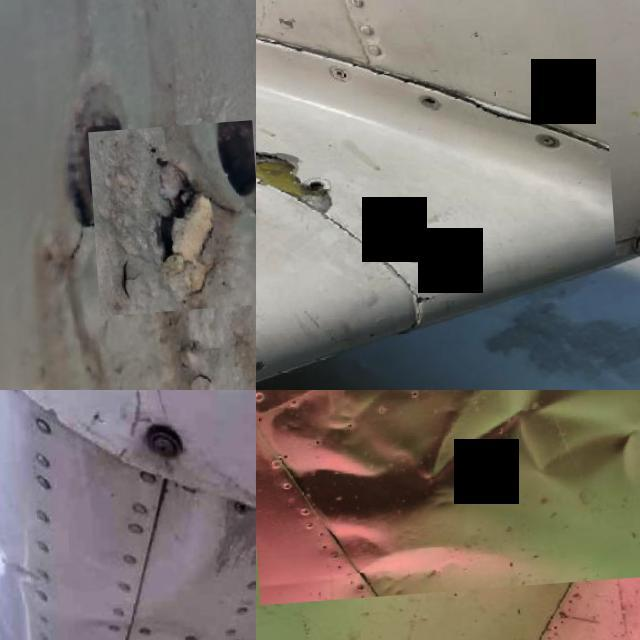Crack: (85, 125, 256, 318), (256, 142, 332, 230), (447, 88, 548, 142), (603, 135, 640, 263), (396, 290, 443, 318)
Dent: (256, 390, 640, 607)
Missing_Fastener: (416, 98, 440, 117)
